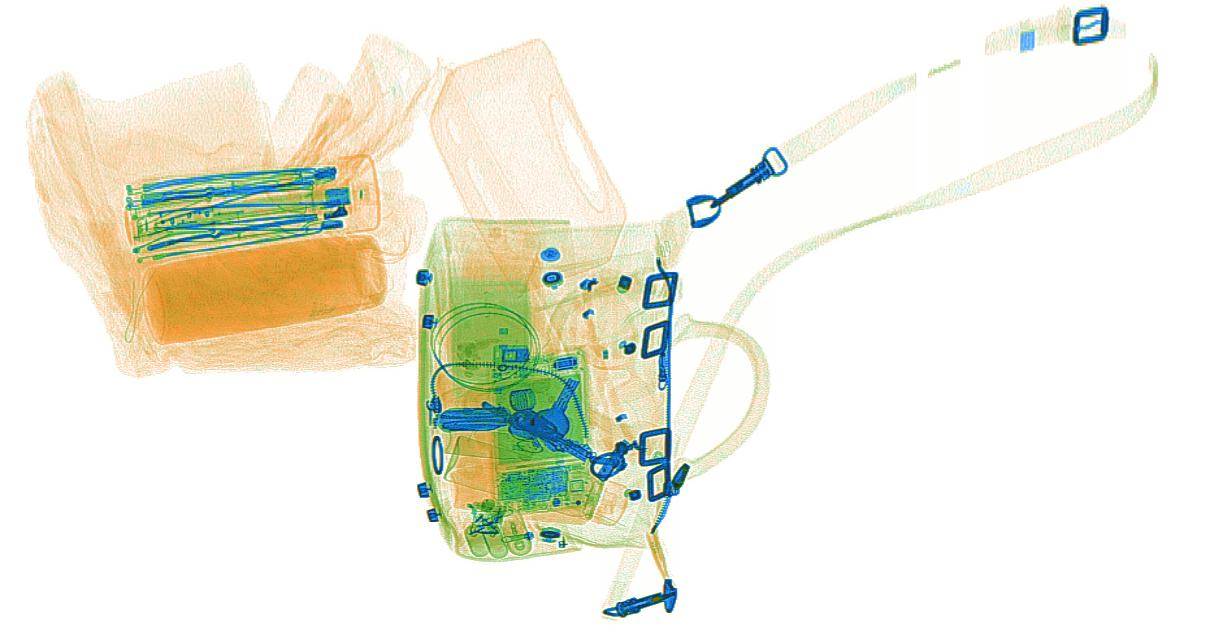pressure: (441, 434, 630, 526), (443, 424, 535, 459)
